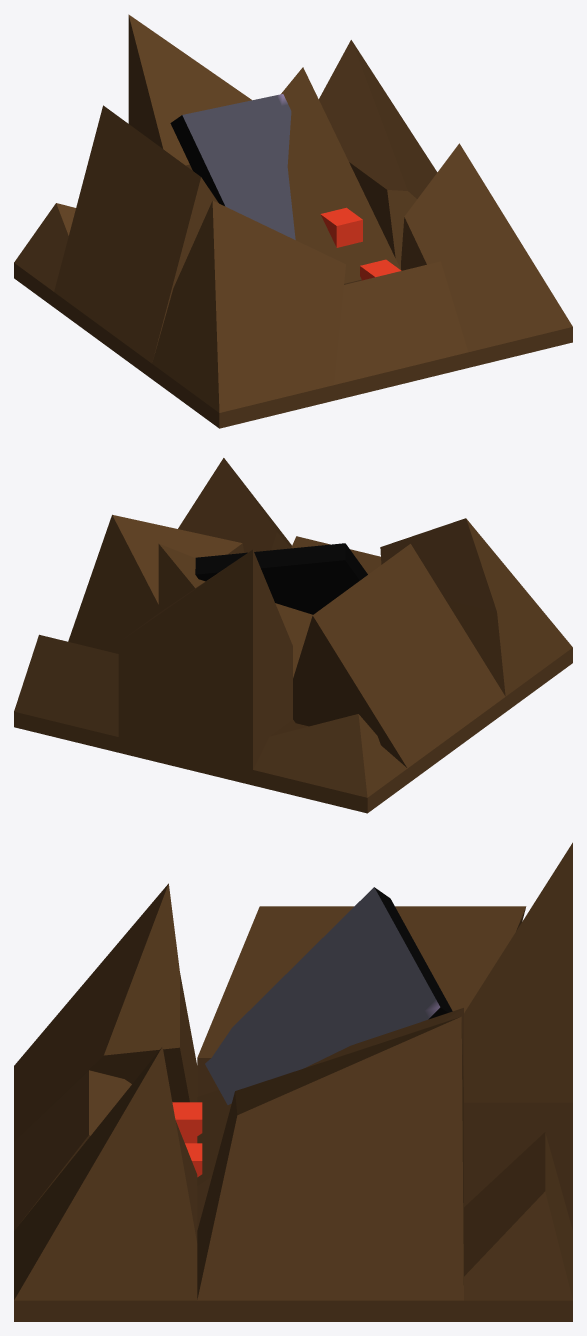
File: Plataforma2.fbx
The picture shows the model from 3 angles, top to bottom: view 1: azimuth 30°, elevation 25°; view 2: azimuth 150°, elevation 25°; view 3: azimuth 270°, elevation 25°; orthographic projection. The views are drawn at different scales.
Parts seen in each view (by area): view 1: Cube; view 2: Cube; view 3: Cube.
Boxes of the visible parts, x1,y1,x2,y2 form: Cube: (14,14,572,428); Cube: (14,458,572,813); Cube: (14,842,572,1321).
Size of the model in its own units: 988 by 631 by 995.
5 materials, 5 textured.
